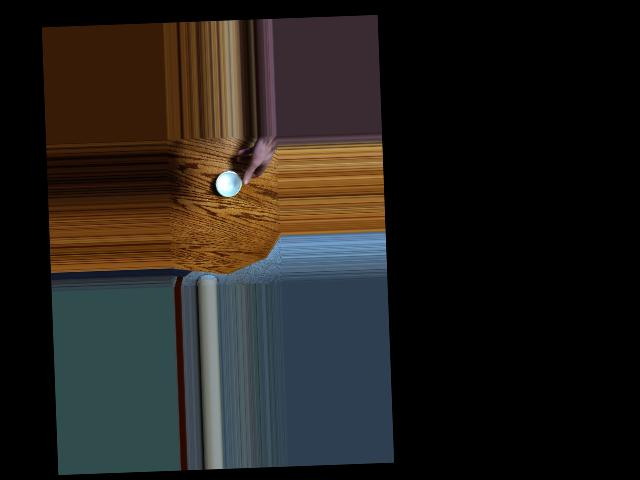cotage: (212, 165, 249, 202)
